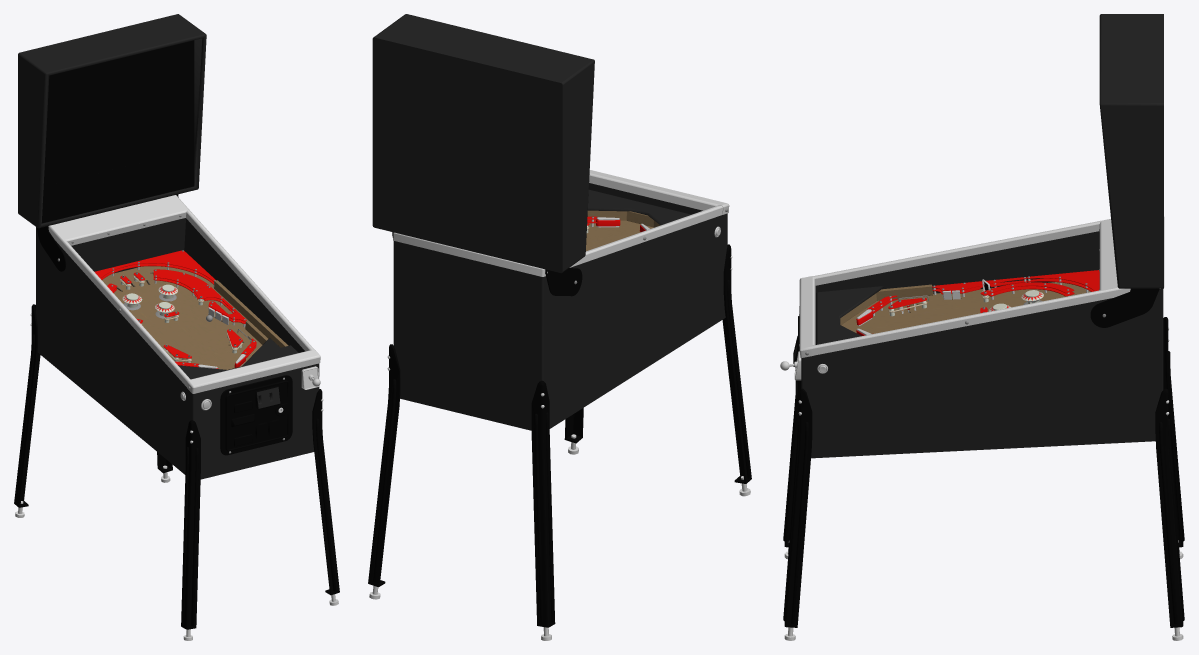
Rendered from pinball-machine.glb.
The picture shows the model from 3 angles, left to right: view 1: azimuth 30°, elevation 25°; view 2: azimuth 150°, elevation 25°; view 3: azimuth 270°, elevation 25°; orthographic projection. The views are drawn at different scales.
Visible parts, largest first — view 1: box_1, score board_25, feet_9, playfield_17, coin slot_2, plastic_13, playfield sides_18, exit cover_8, plastic pop bumper zone_15, plastic rocket_16, slingshot_29; view 2: box_1, score board_25, feet_9, exit cover_8, playfield_17, playfield sides_18; view 3: box_1, score board_25, feet_9, playfield_17, exit cover_8, playfield sides_18, plastic_13, plastic pop bumper zone_15, plastic left_14.
Part boxes in pixels (x1,y1,x2,y2): box_1: (36, 195, 320, 479); score board_25: (18, 14, 206, 271); feet_9: (14, 304, 339, 640); playfield_17: (102, 266, 262, 369); coin slot_2: (220, 375, 292, 455); plastic_13: (94, 250, 216, 287); playfield sides_18: (214, 280, 288, 347); exit cover_8: (178, 338, 298, 379); plastic pop bumper zone_15: (107, 269, 209, 324); plastic rocket_16: (194, 286, 246, 327); slingshot_29: (163, 329, 242, 362); box_1: (393, 170, 729, 430); score board_25: (372, 14, 594, 296); feet_9: (368, 244, 751, 640); exit cover_8: (587, 189, 690, 225); playfield_17: (586, 220, 653, 251); playfield sides_18: (587, 210, 660, 227); box_1: (799, 217, 1164, 458); score board_25: (1090, 14, 1163, 327); feet_9: (783, 317, 1184, 640); playfield_17: (841, 282, 1090, 333); exit cover_8: (816, 286, 883, 344); playfield sides_18: (840, 284, 932, 324); plastic_13: (1027, 270, 1099, 292); plastic pop bumper zone_15: (980, 282, 1074, 302); plastic left_14: (932, 277, 1027, 297).
Size of what is drawn, in the model's own units: 0.72 by 2 by 1.36.
Materials: 16 (1 with a texture image).
